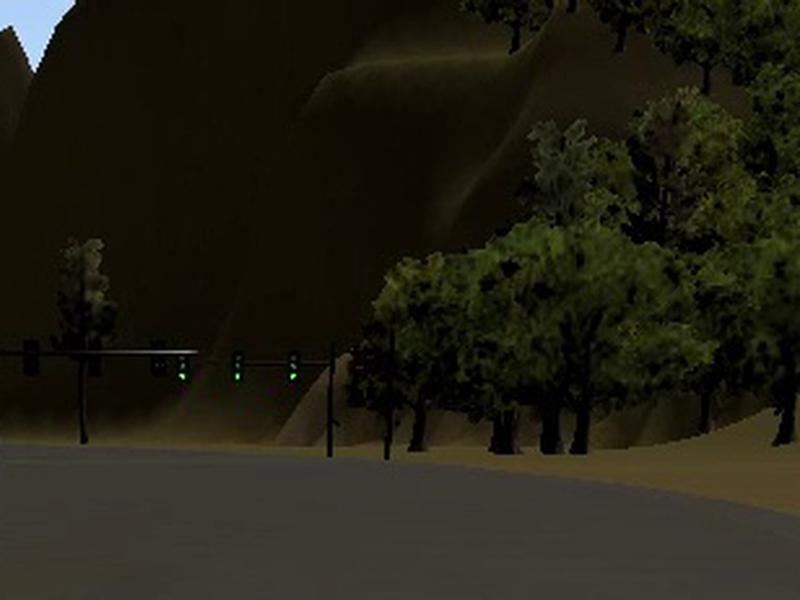Green: (288, 353, 300, 380), (232, 354, 243, 381), (177, 354, 188, 380)
